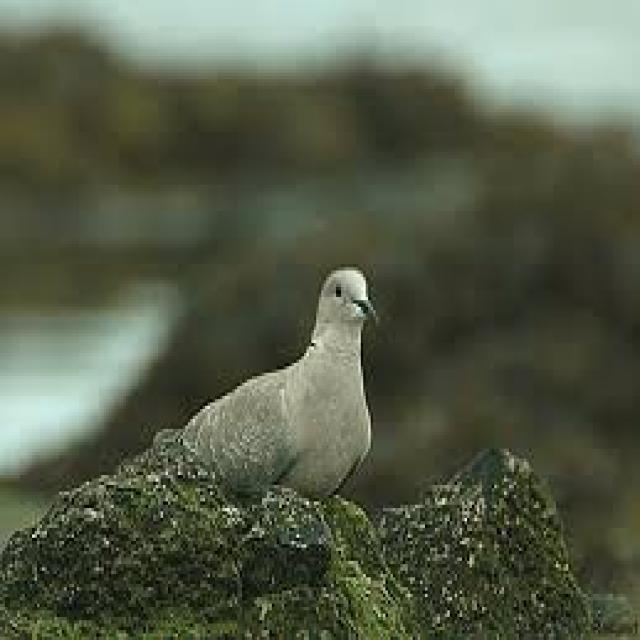pigeon: (135, 253, 393, 535)
